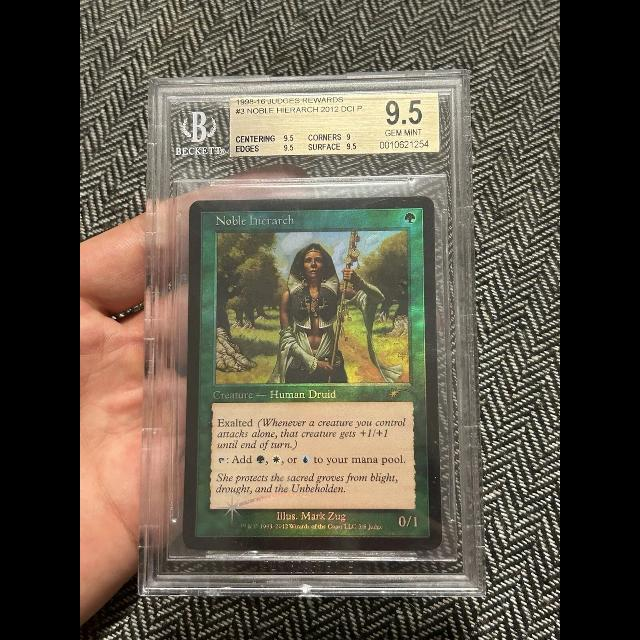bgs_label: (230, 92, 440, 156)
bgs_slab: (138, 69, 486, 597)
card: (184, 196, 443, 551)
